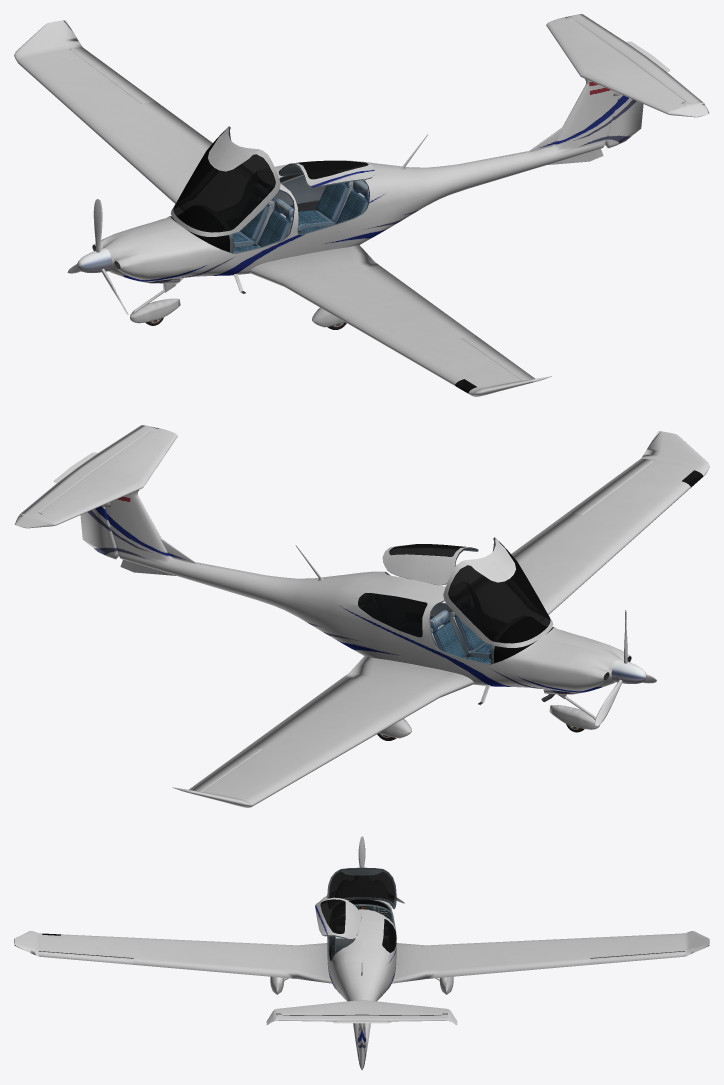
Rendered from diamond_da40.glb.
The picture shows the model from 3 angles, top to bottom: view 1: azimuth 30°, elevation 25°; view 2: azimuth 150°, elevation 25°; view 3: azimuth 270°, elevation 25°; orthographic projection. The views are drawn at different scales.
Parts seen in each view (by area): view 1: Object_4, Object_5, Object_52, Object_45, Object_31, Object_7; view 2: Object_4, Object_5, Object_52, Object_45, Object_7; view 3: Object_4, Object_5, Object_52, Object_31, Object_6.
Boxes of the visible parts, x1,y1,x2,y2 form: Object_4: (14, 14, 709, 396); Object_5: (67, 79, 618, 323); Object_52: (173, 130, 476, 393); Object_45: (232, 180, 369, 252); Object_31: (170, 126, 373, 253); Object_7: (77, 248, 163, 325); Object_4: (14, 425, 709, 807); Object_5: (105, 490, 656, 729); Object_52: (358, 470, 703, 643); Object_45: (430, 608, 491, 663); Object_7: (541, 659, 646, 732); Object_4: (14, 897, 709, 1069); Object_5: (320, 836, 404, 1059); Object_52: (42, 871, 396, 952); Object_31: (322, 867, 396, 961); Object_6: (270, 976, 453, 994).
Bounding box in the file's own units: 8.09 × 2.18 × 11.9.
41 materials, 39 textured.
